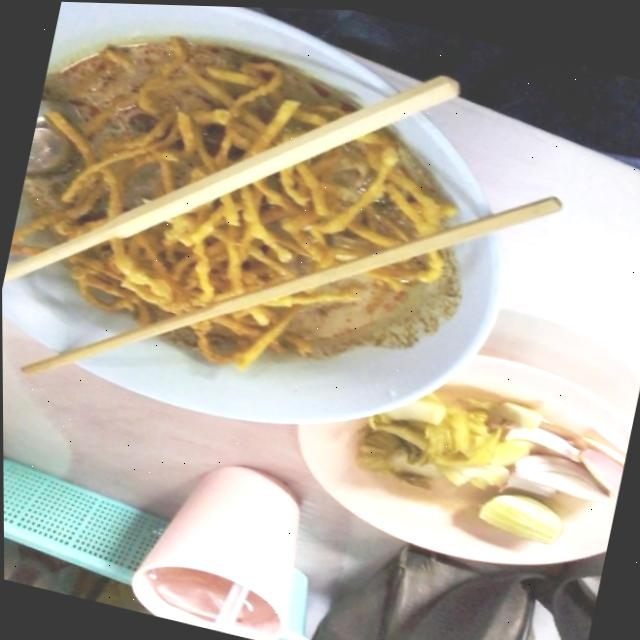面条主食: (0, 0, 510, 469)
